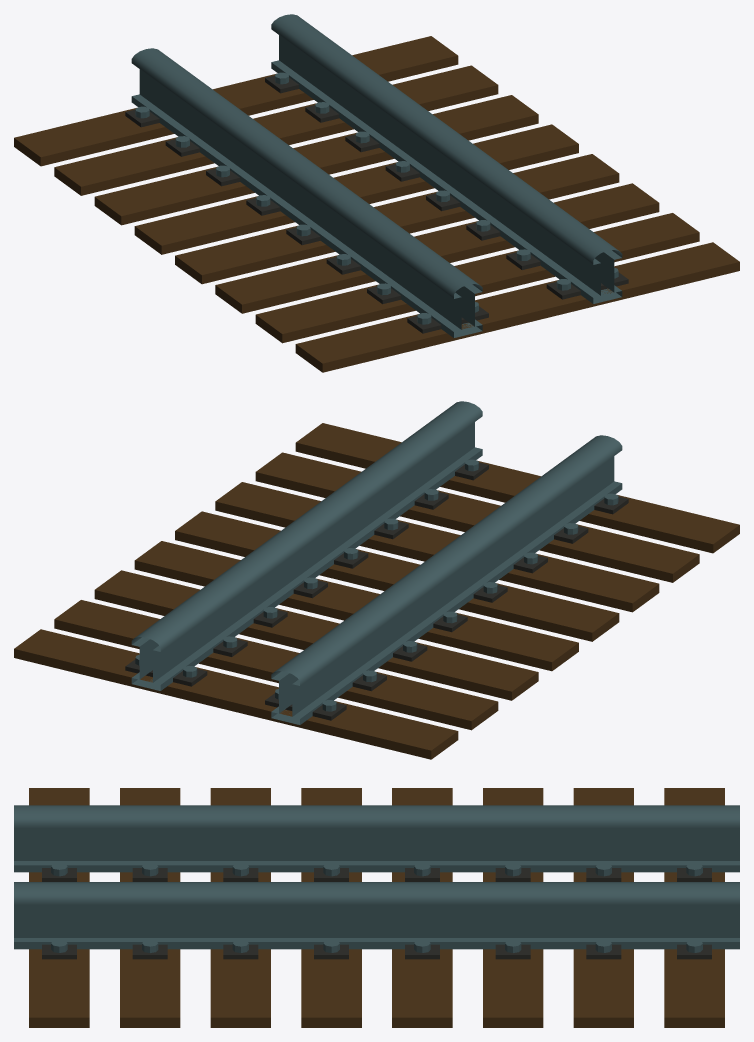
The model's file is CA_053_054_rail_straight_platforn.glb.
3 renders of one model, top to bottom at view 1: azimuth 30°, elevation 25°; view 2: azimuth 150°, elevation 25°; view 3: azimuth 270°, elevation 25°, orthographic. The views are drawn at different scales.
Visible parts, largest first — view 1: wooden_planks, rails, rails_support; view 2: wooden_planks, rails, rails_support; view 3: rails, wooden_planks, rails_support.
Part boxes in pixels (x1,y1,x2,y2): wooden_planks: (14, 36, 739, 372); rails: (131, 14, 622, 337); rails_support: (125, 72, 628, 333); wooden_planks: (14, 423, 739, 759); rails: (131, 401, 622, 724); rails_support: (125, 459, 628, 720); rails: (14, 805, 739, 949); wooden_planks: (29, 788, 724, 1027); rails_support: (42, 863, 711, 959).
Bounding box in the file's own units: 2.24 × 0.3031 × 3.
